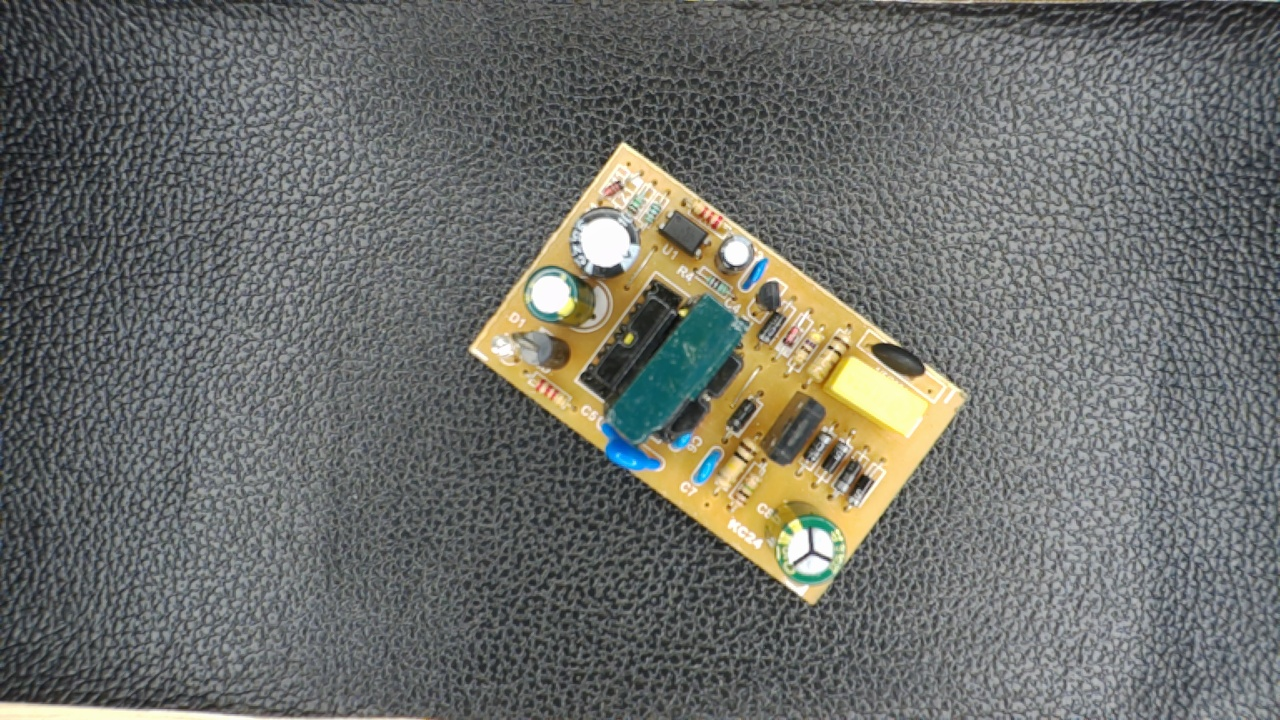fuse: (863, 335, 927, 381)
hv_capacitor: (761, 503, 848, 584)
mov: (588, 417, 665, 476)
optocoupler: (651, 210, 713, 257)
